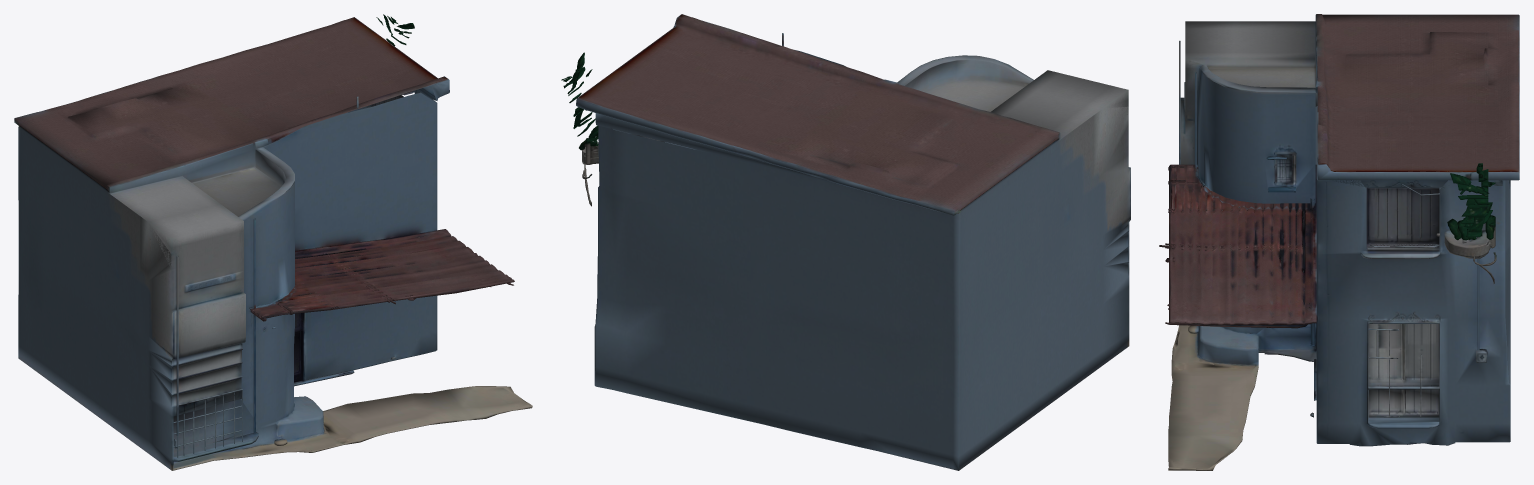
Rendered from tripo_convert_8047e232-07b2-45cf-99fc-aee6d78e730d.fbx.
3 views of the same model, side by side, from view 1: azimuth 30°, elevation 25°; view 2: azimuth 150°, elevation 25°; view 3: azimuth 270°, elevation 25° (orthographic). The views are drawn at different scales.
Visible parts, largest first — view 1: tripo_node_8047e232; view 2: tripo_node_8047e232; view 3: tripo_node_8047e232.
Part boxes in pixels (x1,y1,x2,y2): tripo_node_8047e232: (14,14,532,470); tripo_node_8047e232: (561,14,1130,470); tripo_node_8047e232: (1159,14,1519,470).
Size of the model in its own units: 0.9873 by 0.7288 by 0.7833.
